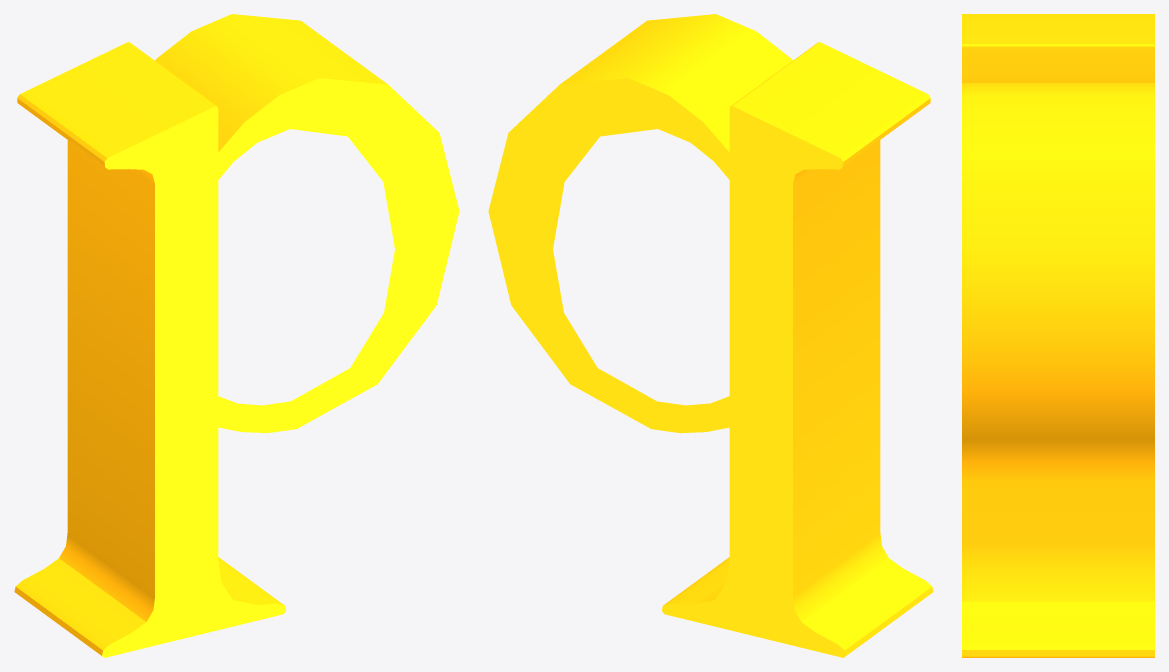
File: P_Zyzol_Yellow.glb
3 views of the same model, side by side, from view 1: azimuth 30°, elevation 25°; view 2: azimuth 150°, elevation 25°; view 3: azimuth 270°, elevation 25° (orthographic). The views are drawn at different scales.
Parts seen in each view (by area): view 1: p_Zyzol_Yellow; view 2: p_Zyzol_Yellow; view 3: p_Zyzol_Yellow.
Part boxes in pixels (box(x1,y1,x2,y2)): p_Zyzol_Yellow: box(14, 14, 459, 657); p_Zyzol_Yellow: box(488, 14, 933, 657); p_Zyzol_Yellow: box(962, 14, 1154, 657).
Size of what is drawn, in the model's own units: 0.1062 by 0.1496 by 0.045.
Materials: 2 (2 with a texture image).
